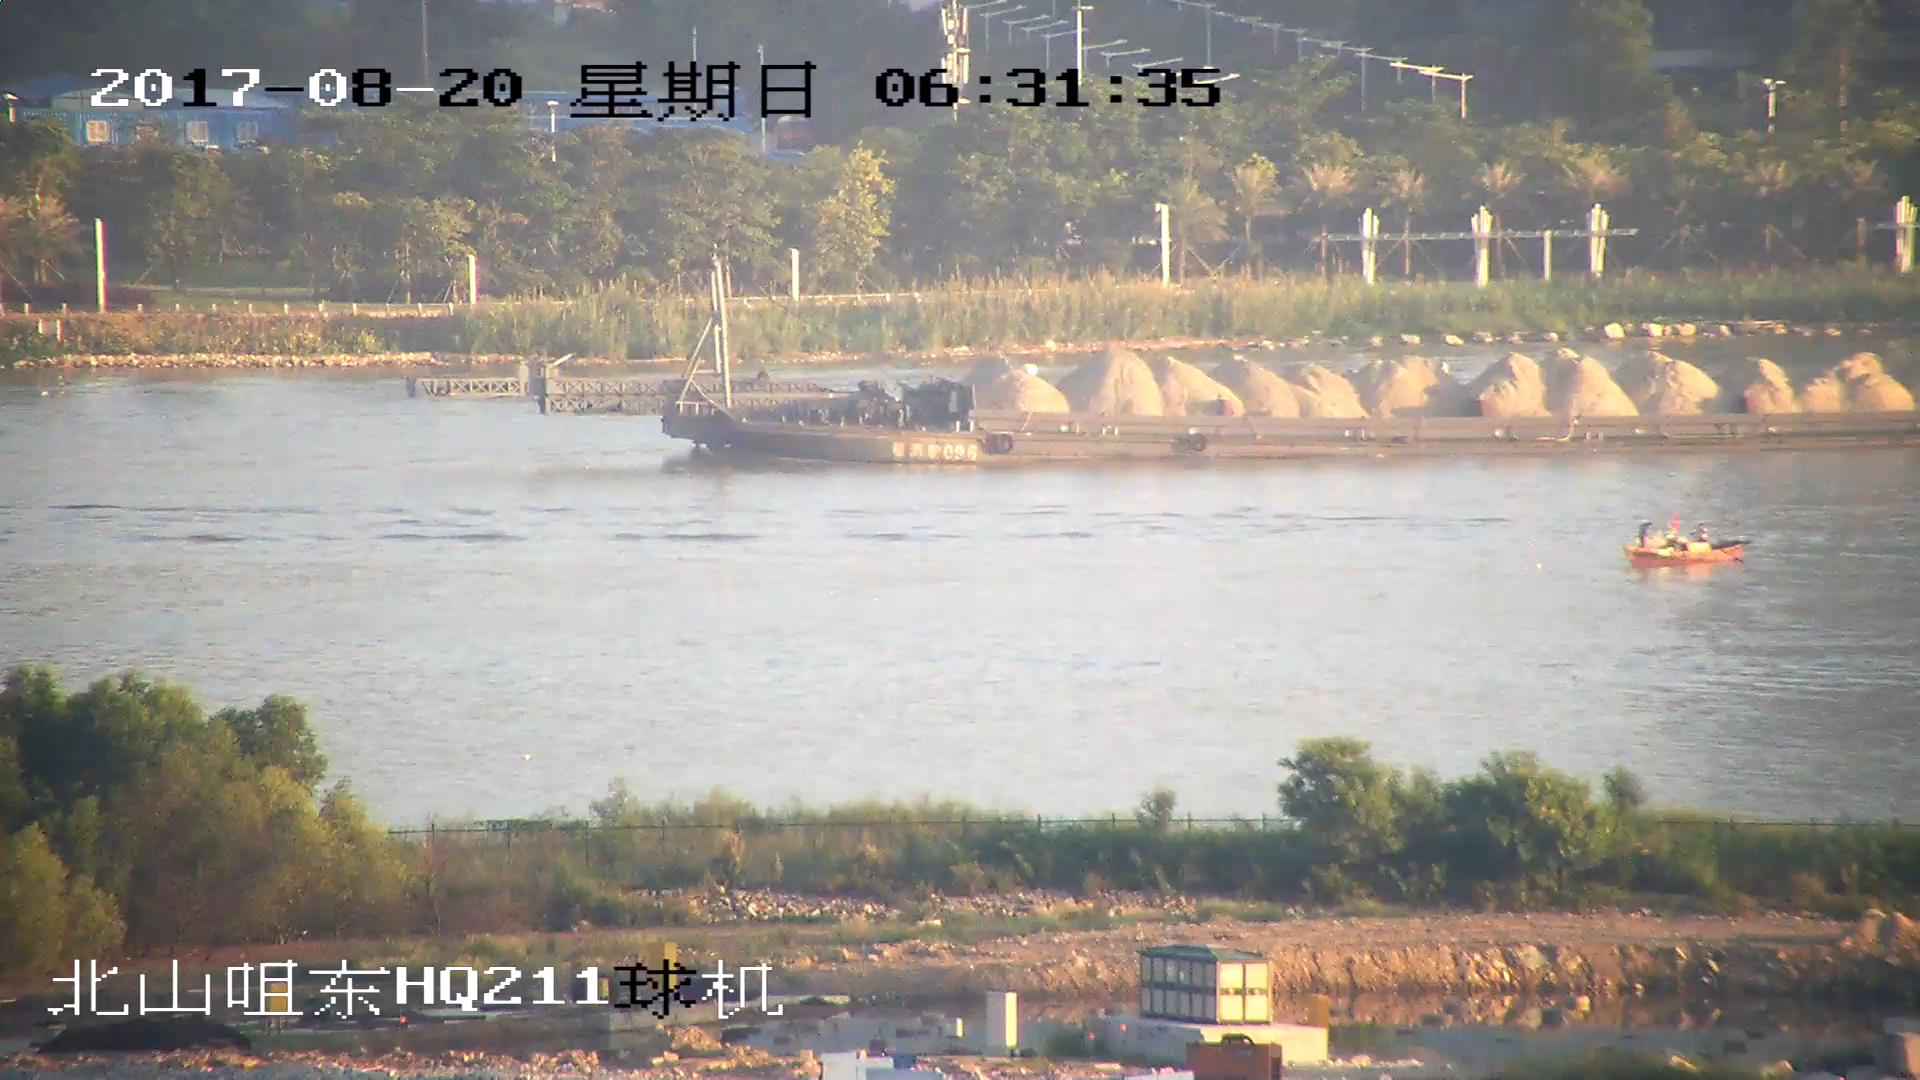fishing boat: (1621, 512, 1759, 570)
ore carrier: (401, 247, 1920, 469)
